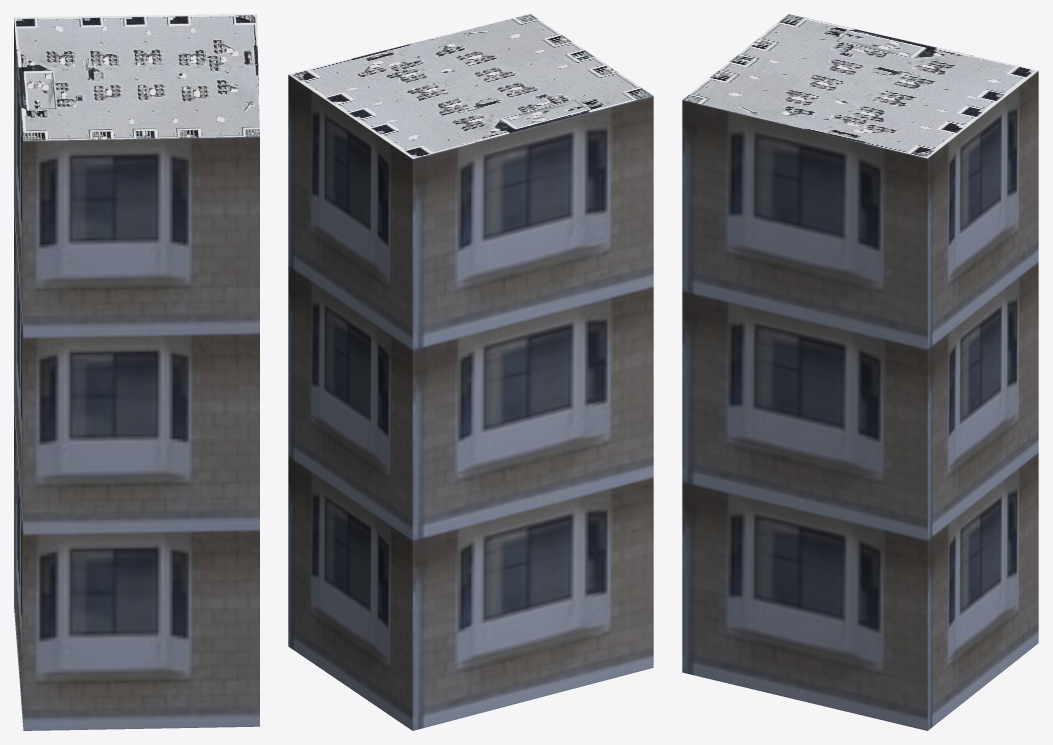
The model's file is ResTex__4026.fbx.
3 renders of one model, left to right at view 1: azimuth 30°, elevation 25°; view 2: azimuth 150°, elevation 25°; view 3: azimuth 270°, elevation 25°, orthographic. The views are drawn at different scales.
Visible parts, largest first — view 1: CityEngineMaterial_3_m, CityEngineMaterial_m; view 2: CityEngineMaterial_3_m, CityEngineMaterial_m; view 3: CityEngineMaterial_3_m, CityEngineMaterial_m.
Part boxes in pixels (x1=…): CityEngineMaterial_3_m: x1=14, y1=19, x2=259, y2=730; CityEngineMaterial_m: x1=14, y1=14, x2=259, y2=140; CityEngineMaterial_3_m: x1=288, y1=75, x2=653, y2=730; CityEngineMaterial_m: x1=288, y1=14, x2=653, y2=158; CityEngineMaterial_3_m: x1=682, y1=71, x2=1038, y2=730; CityEngineMaterial_m: x1=683, y1=14, x2=1038, y2=158.
Size of the model in its own units: 4.87 by 9 by 5.08.
Materials: 2 (2 with a texture image).
